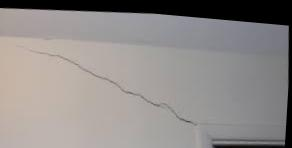crack: (17, 45, 198, 122)
